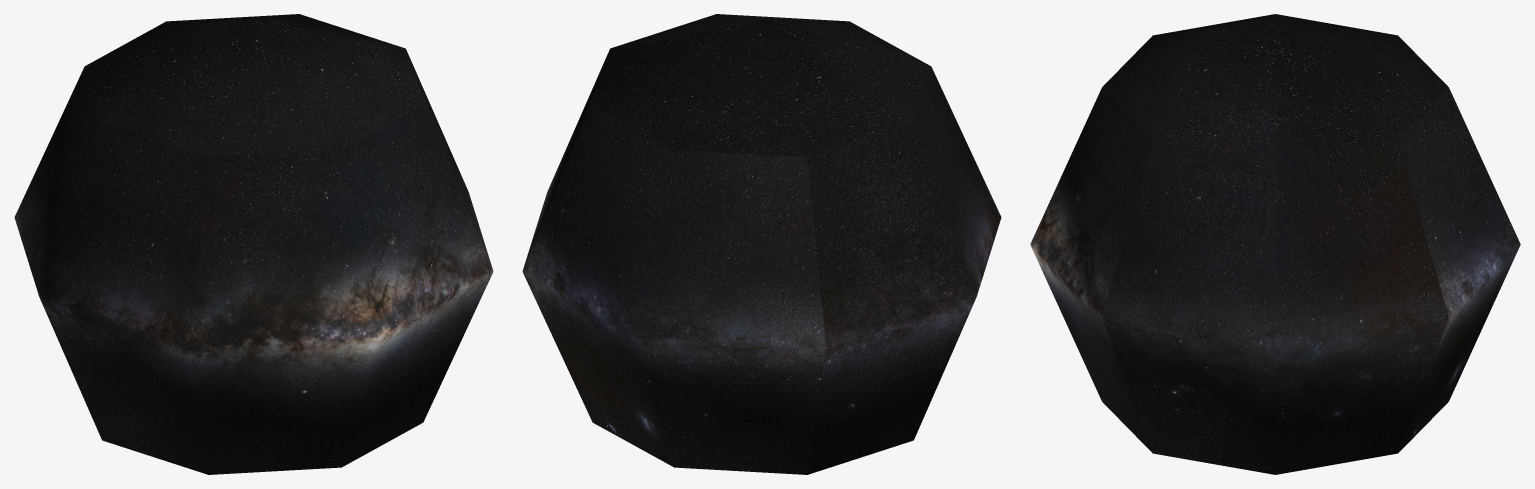
Rendered from galaxy.dae.
The picture shows the model from 3 angles, left to right: view 1: azimuth 30°, elevation 25°; view 2: azimuth 150°, elevation 25°; view 3: azimuth 270°, elevation 25°; orthographic projection.
Visible parts, largest first — view 1: Sphere.1; view 2: Sphere.1; view 3: Sphere.1.
Boxes of the visible parts, left/top/right/bottom form: Sphere.1: left=14, top=14, right=493, bottom=474; Sphere.1: left=522, top=14, right=1001, bottom=474; Sphere.1: left=1030, top=14, right=1520, bottom=474.
Bounding box in the file's own units: 1 × 1 × 1.
